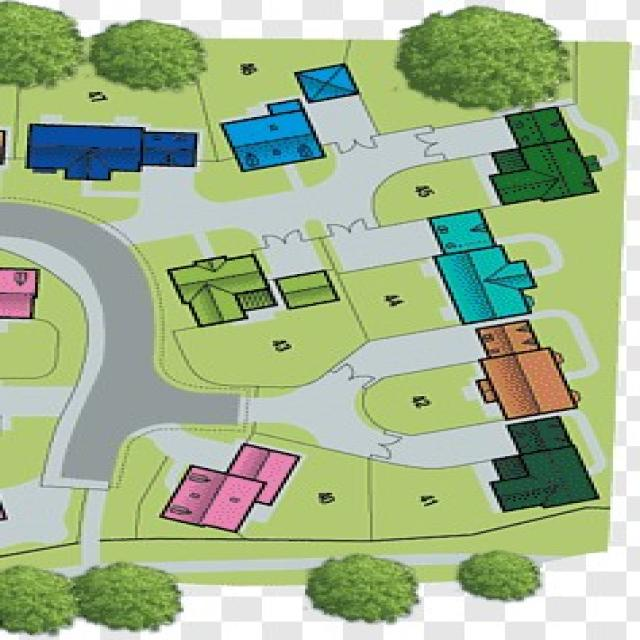greenish: (183, 332, 327, 382), (380, 467, 483, 535), (20, 84, 195, 122), (206, 38, 296, 100), (297, 462, 365, 538), (349, 272, 434, 332), (105, 436, 155, 533), (380, 376, 470, 428), (561, 242, 621, 318), (382, 170, 482, 211), (579, 46, 627, 129), (495, 208, 615, 236), (357, 39, 410, 92), (6, 418, 45, 482), (513, 524, 609, 550), (201, 167, 281, 198), (366, 96, 461, 122), (5, 324, 52, 374), (2, 173, 60, 204), (44, 278, 76, 325), (140, 238, 202, 262), (207, 228, 257, 256), (84, 197, 134, 217), (298, 43, 344, 62), (142, 516, 176, 540), (298, 162, 332, 183)
